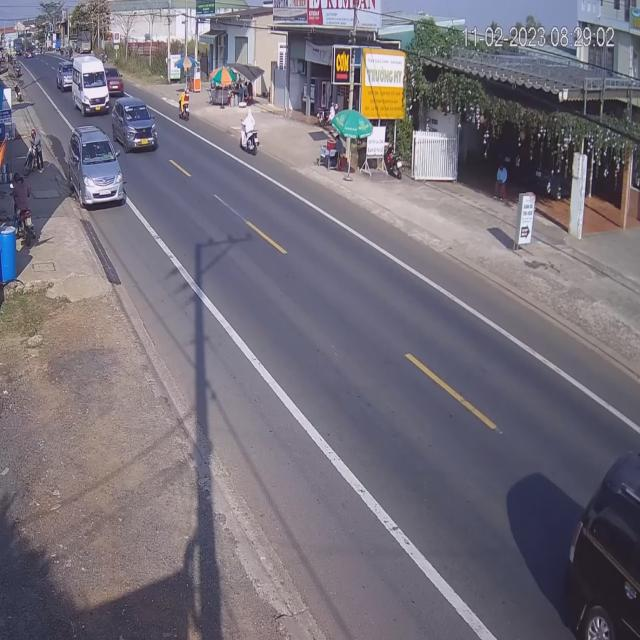bus: (72, 53, 108, 118)
car: (563, 446, 640, 639), (68, 128, 124, 212), (114, 102, 159, 155), (108, 64, 126, 96), (58, 60, 74, 93)
motorbike: (241, 110, 260, 155), (178, 90, 190, 122)
